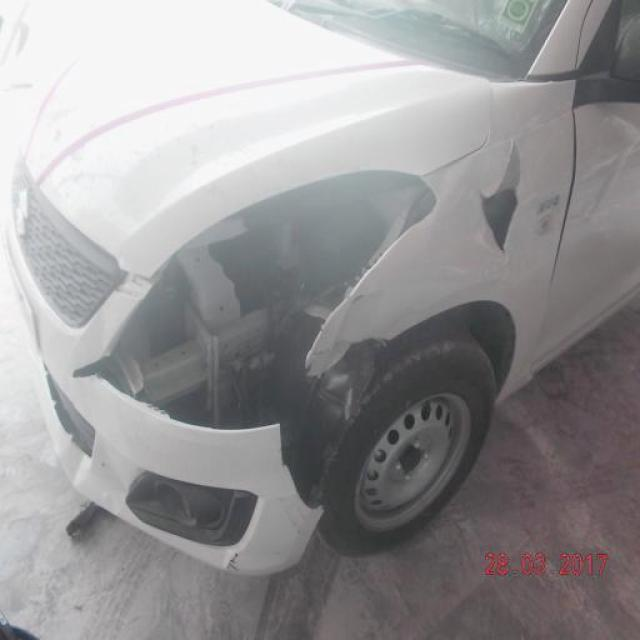car damage: (66, 167, 442, 522), (475, 136, 531, 263), (95, 442, 133, 522), (219, 546, 249, 576)
